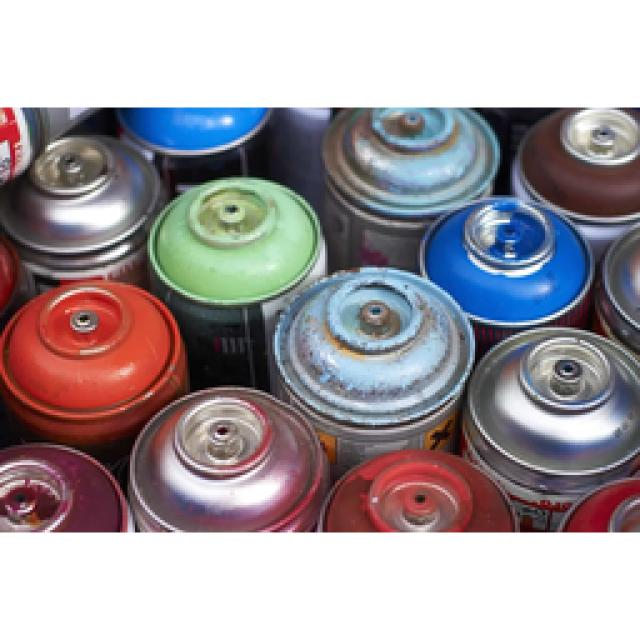zat_kimia: (146, 176, 328, 395), (318, 110, 502, 277), (420, 198, 596, 363), (508, 108, 638, 275)
